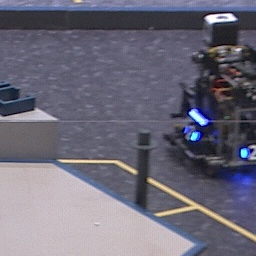Blue: (238, 142, 256, 162), (184, 124, 198, 143)
Robot: (163, 47, 256, 170)
